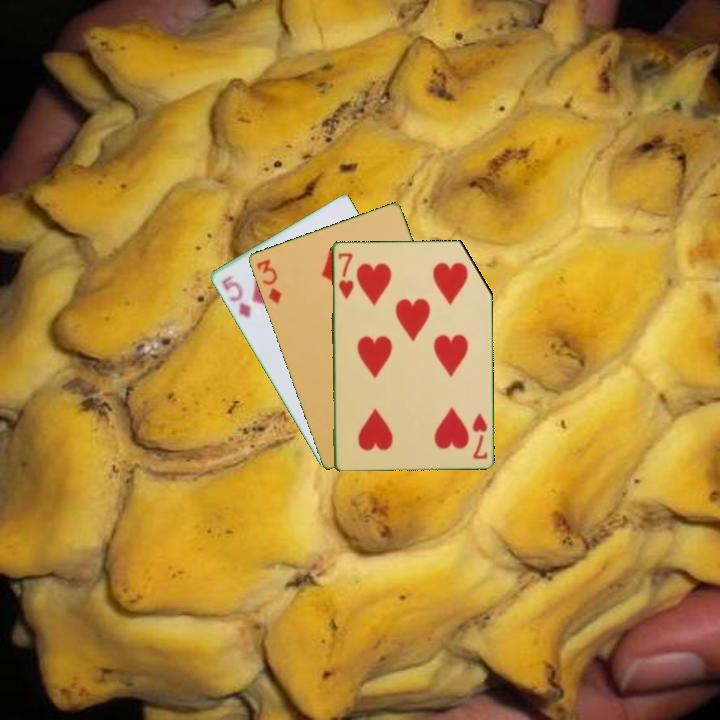3d: (253, 256, 284, 307)
5d: (218, 271, 254, 321)
7h: (334, 249, 356, 302), (469, 409, 490, 462)
